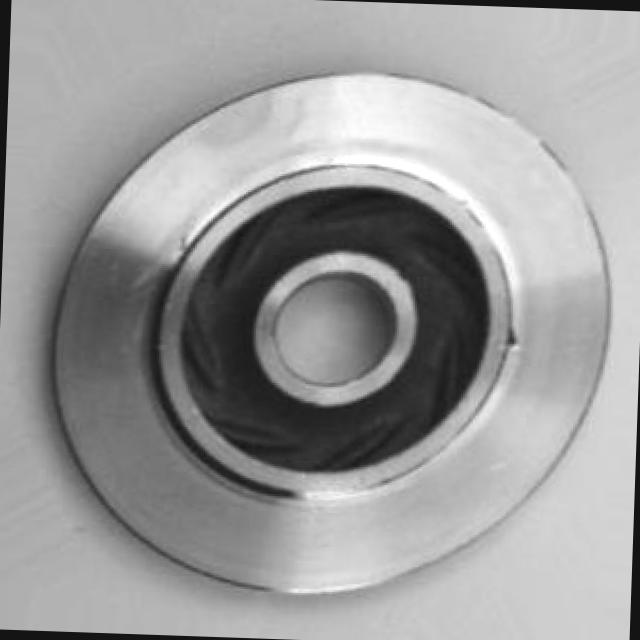Defect: (500, 320, 523, 356)
